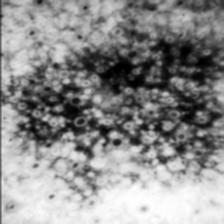Potentially Malignant Skin Tumors: (14, 49, 206, 194)
